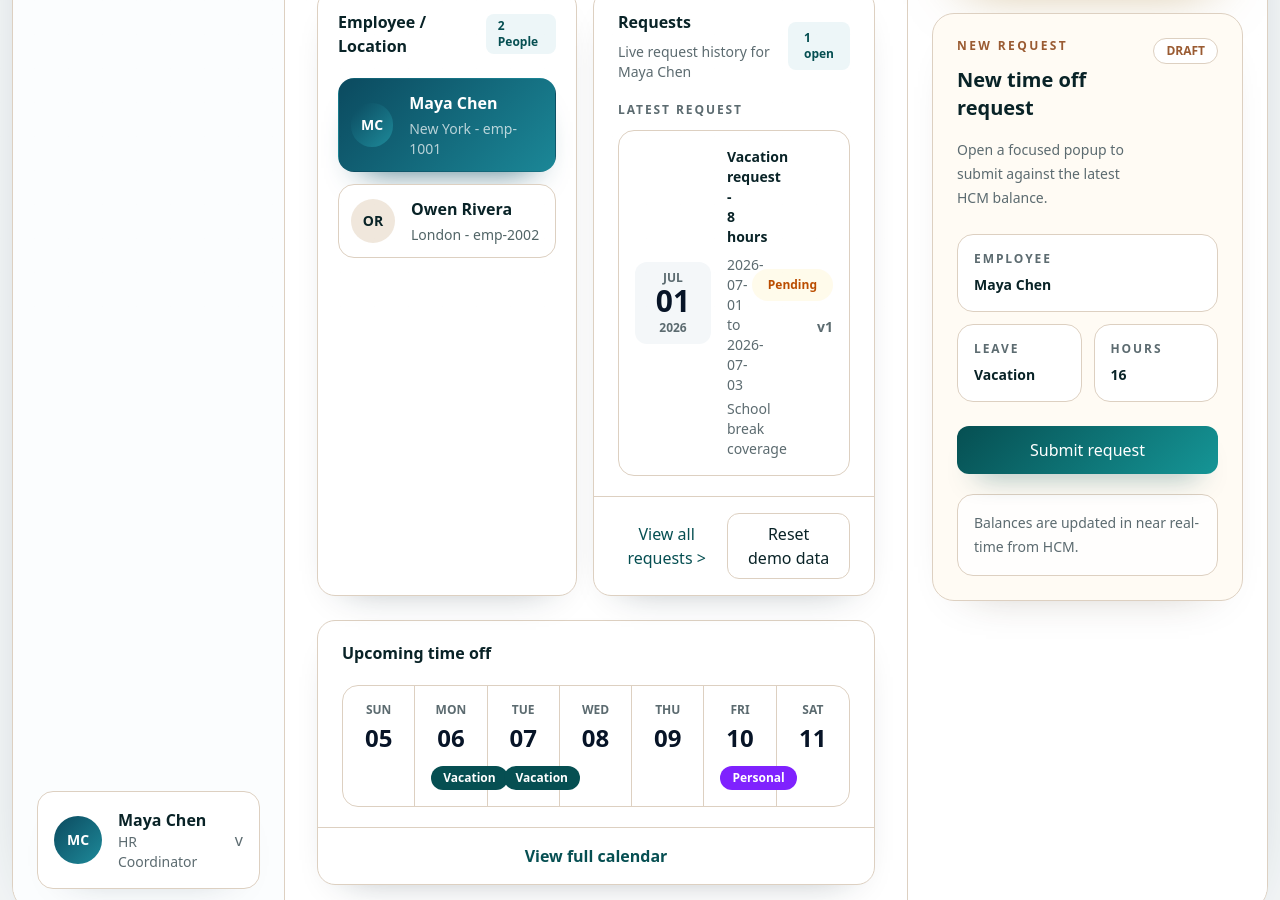
Test: EmployeeView › renders the seeded employee balances and request queue
(page scrolled)
Expected: the 3rd text "Maya Chen" is shown, [118,808,219,832]
Expected: the text "New York - emp-1001" is shown, [409,119,517,158]
Click the button "Submit request". click: (1088, 450)
box: [957,426,1218,474]
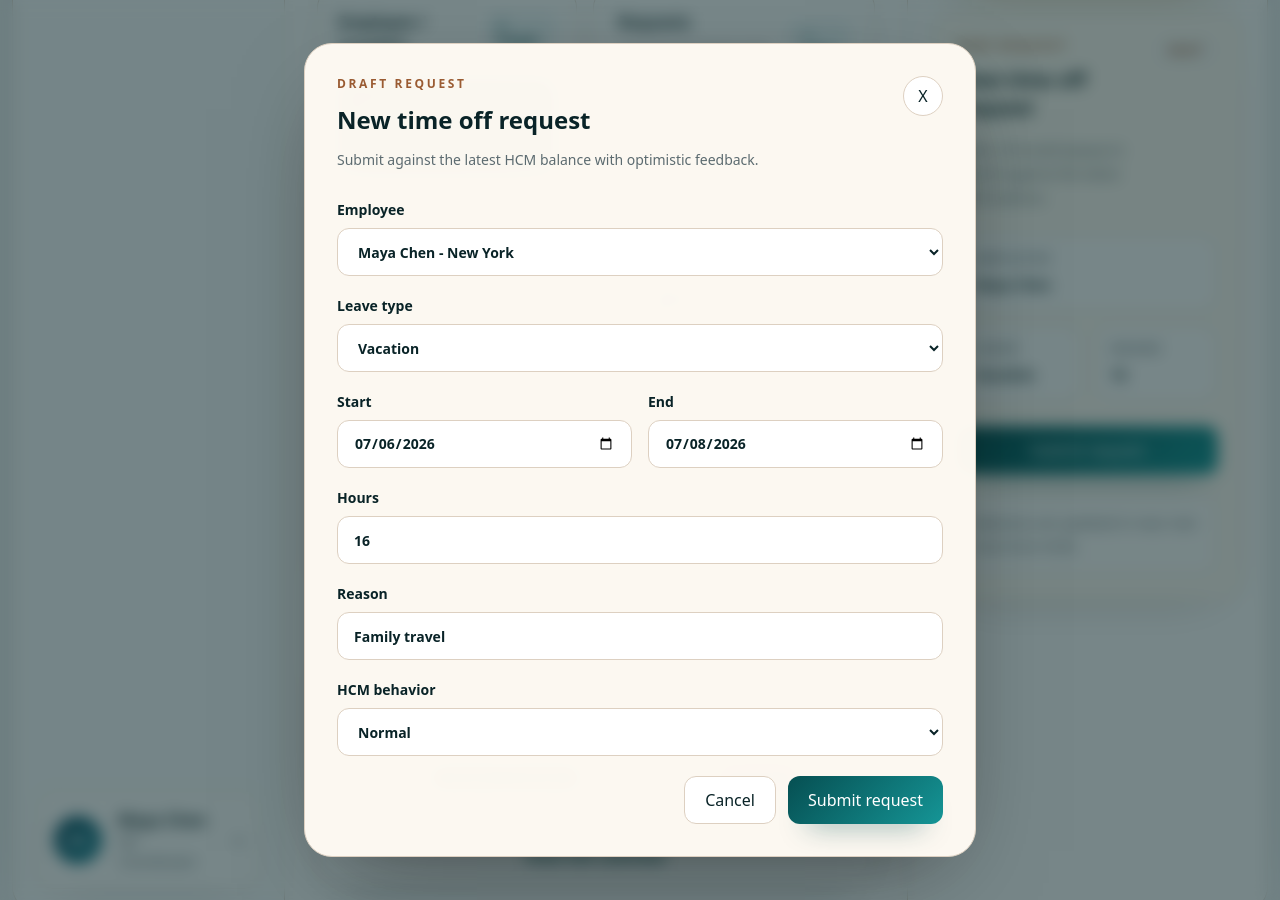
Result: the dialog "New time off request" is shown
